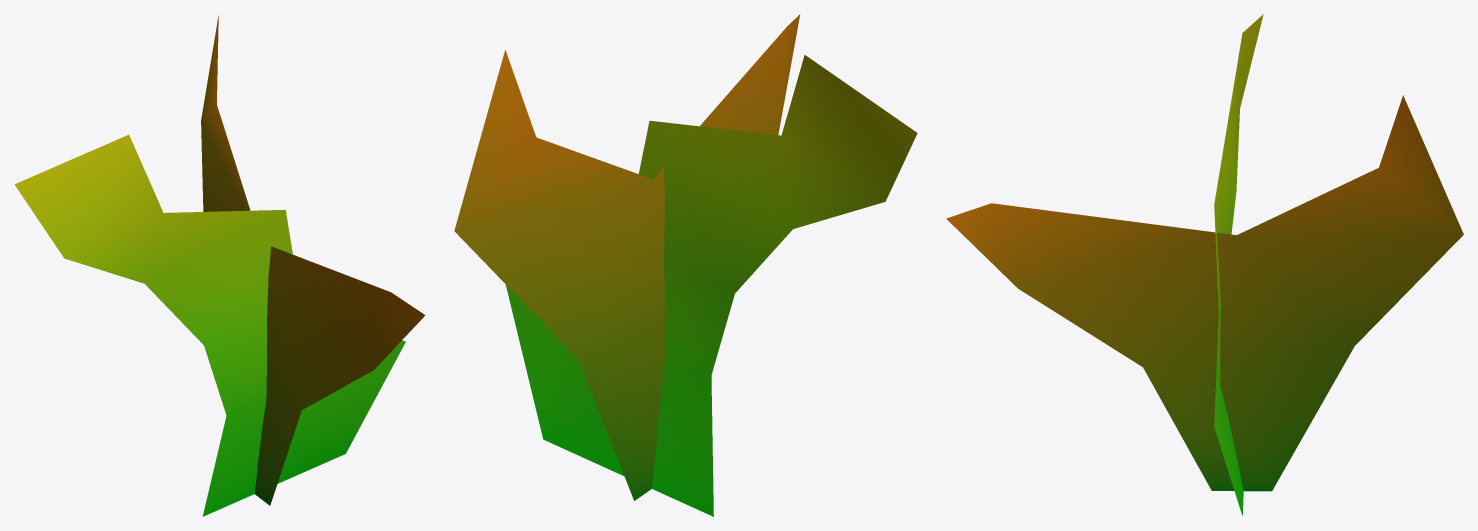
File: Var11Hi4.fbx
The picture shows the model from 3 angles, left to right: view 1: azimuth 30°, elevation 25°; view 2: azimuth 150°, elevation 25°; view 3: azimuth 270°, elevation 25°; orthographic projection. The views are drawn at different scales.
Visible parts, largest first — view 1: bend1; view 2: bend1; view 3: bend1.
Boxes of the visible parts, x1,y1,x2,y2 form: bend1: (14, 15, 425, 516); bend1: (454, 14, 917, 516); bend1: (946, 14, 1463, 515).
Size of the model in its own units: 1.35 by 1.48 by 1.63.
